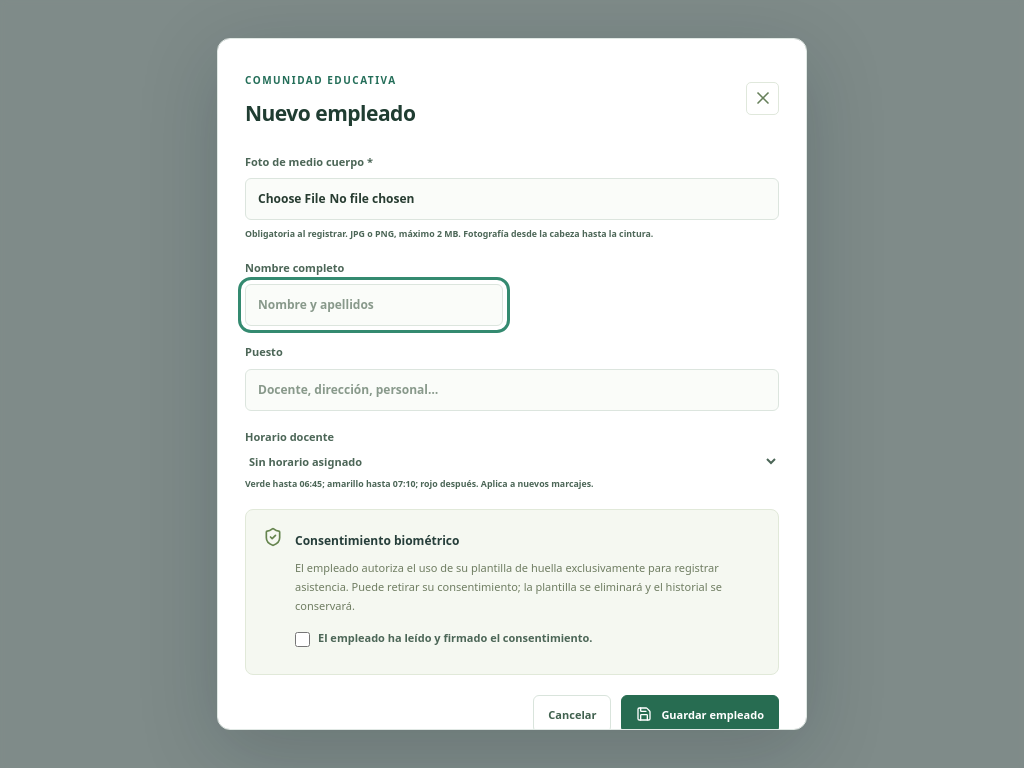
Test: rechaza alta sin foto
Type "Ana López" into the field labelled "Nombre completo".
click(374, 305); type("Ana López")  # box left=245, top=284, right=503, bottom=326
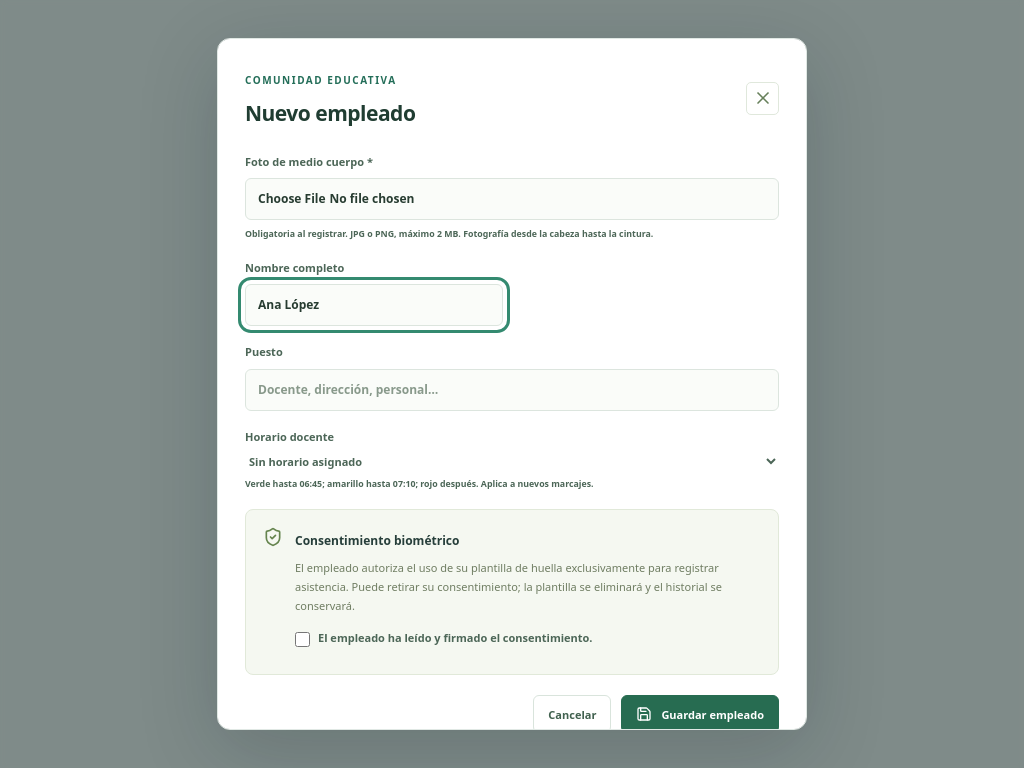
Submit the form named "Guardar empleado", box left=245, top=154, right=779, bottom=733
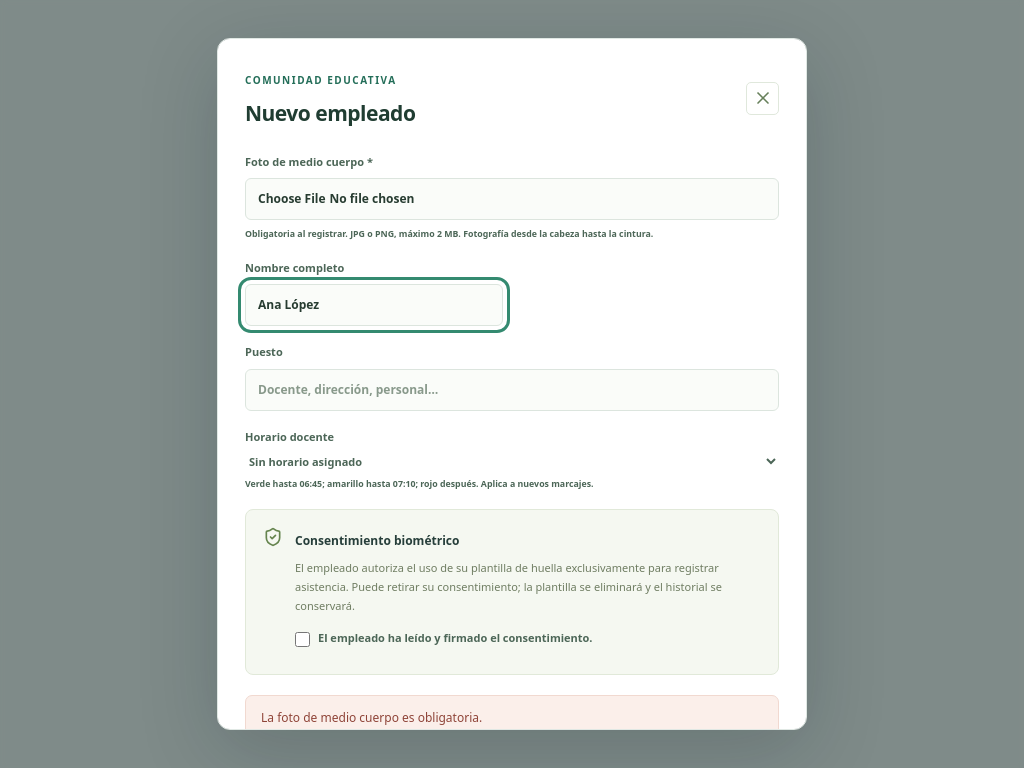
Check: the message shows "obligatoria", box left=261, top=709, right=482, bottom=726
